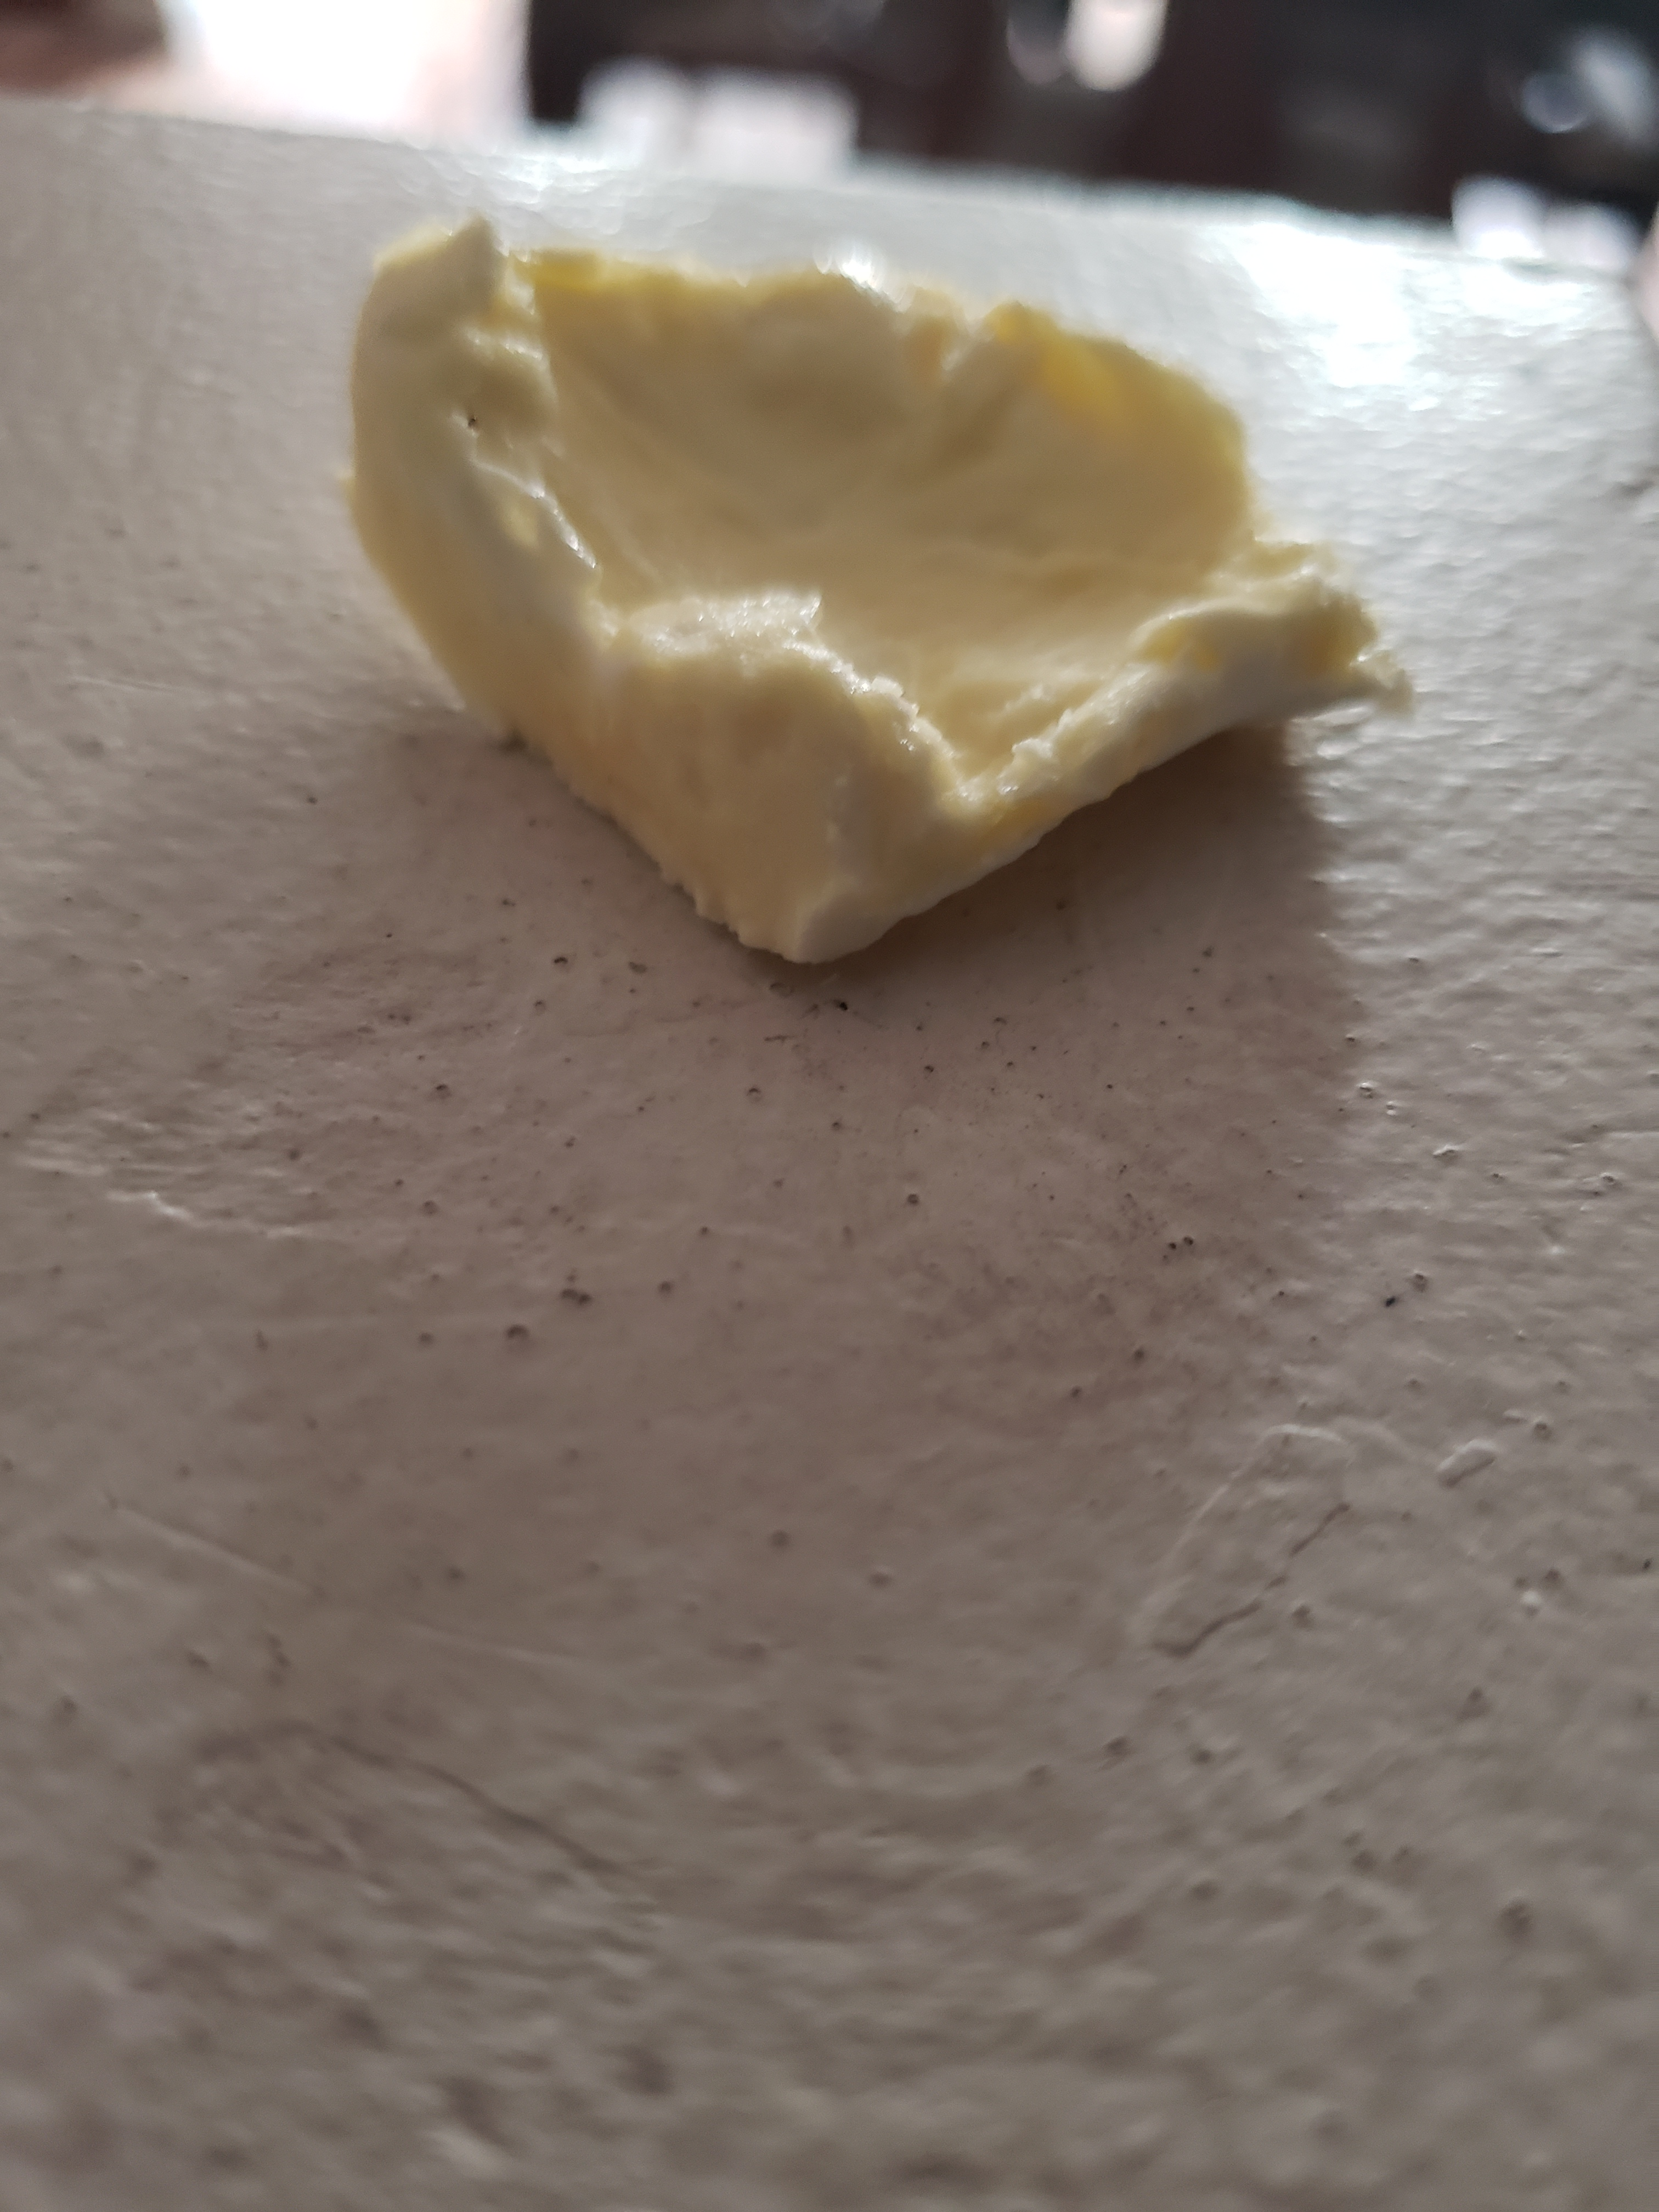Butter: (356, 219, 1405, 956)
